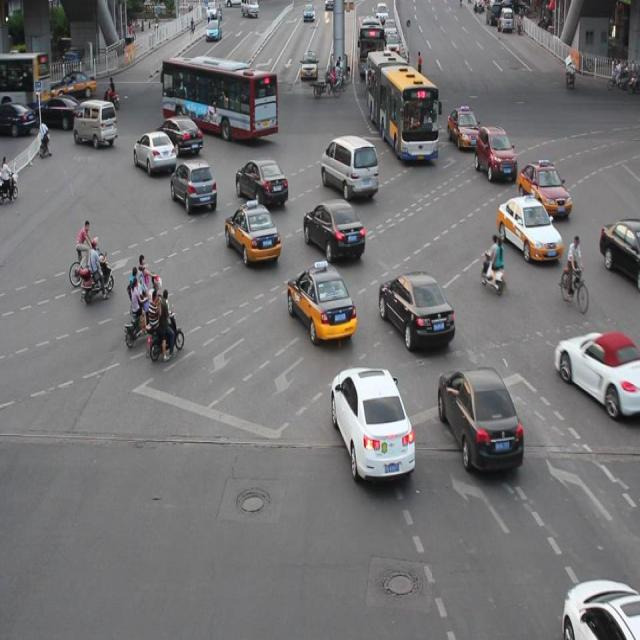car: (330, 364, 415, 476), (436, 364, 524, 470), (552, 328, 640, 416), (378, 270, 454, 349), (558, 573, 640, 640), (286, 264, 355, 339), (496, 193, 562, 263), (302, 197, 364, 260), (224, 200, 280, 263), (516, 159, 570, 219), (599, 216, 640, 289), (235, 156, 288, 207), (170, 158, 216, 210), (475, 124, 515, 179), (158, 115, 204, 156), (134, 130, 176, 174), (446, 106, 480, 148)
truck: (321, 133, 378, 200), (73, 100, 118, 146)
van: (161, 59, 278, 139), (366, 51, 437, 160)
